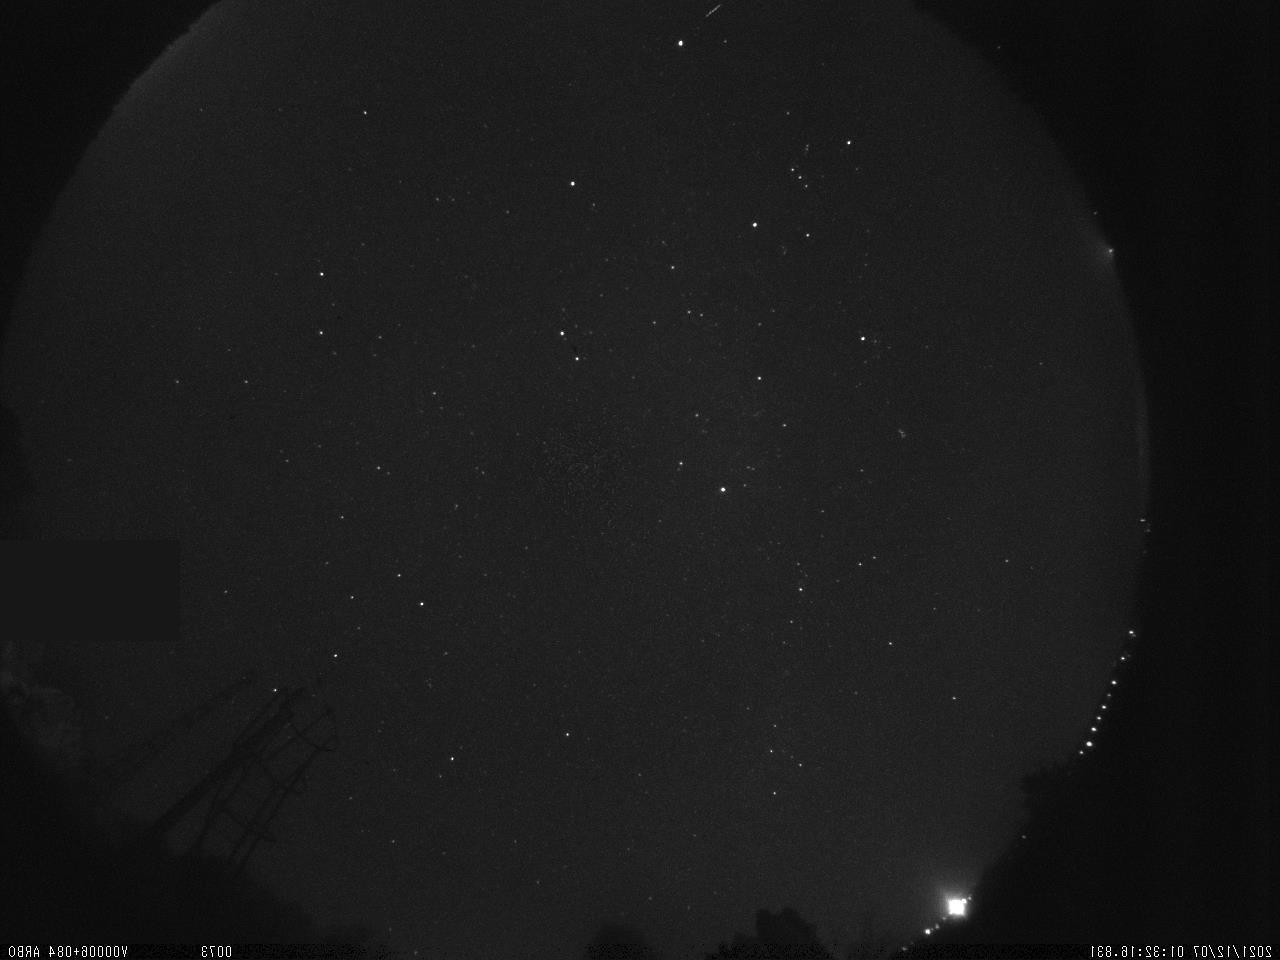meteor: (687, 0, 734, 27)
